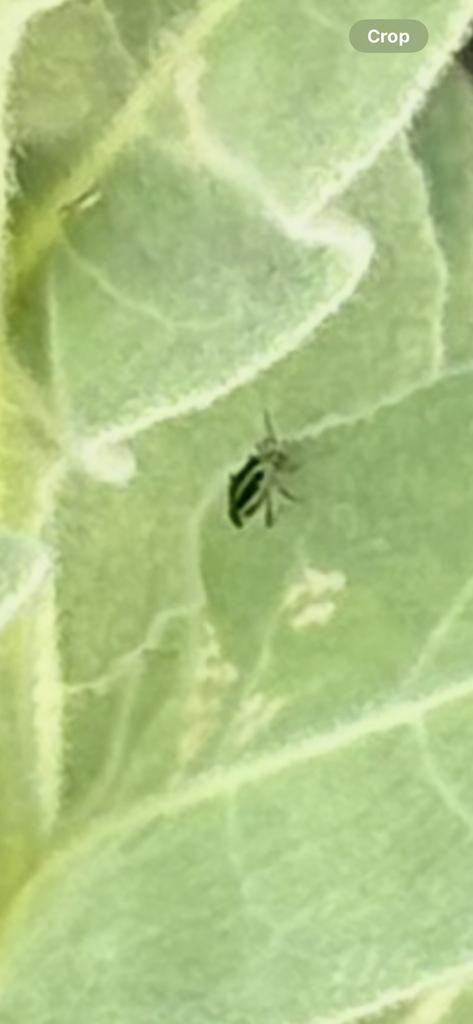plant_bugs: (207, 383, 323, 559)
